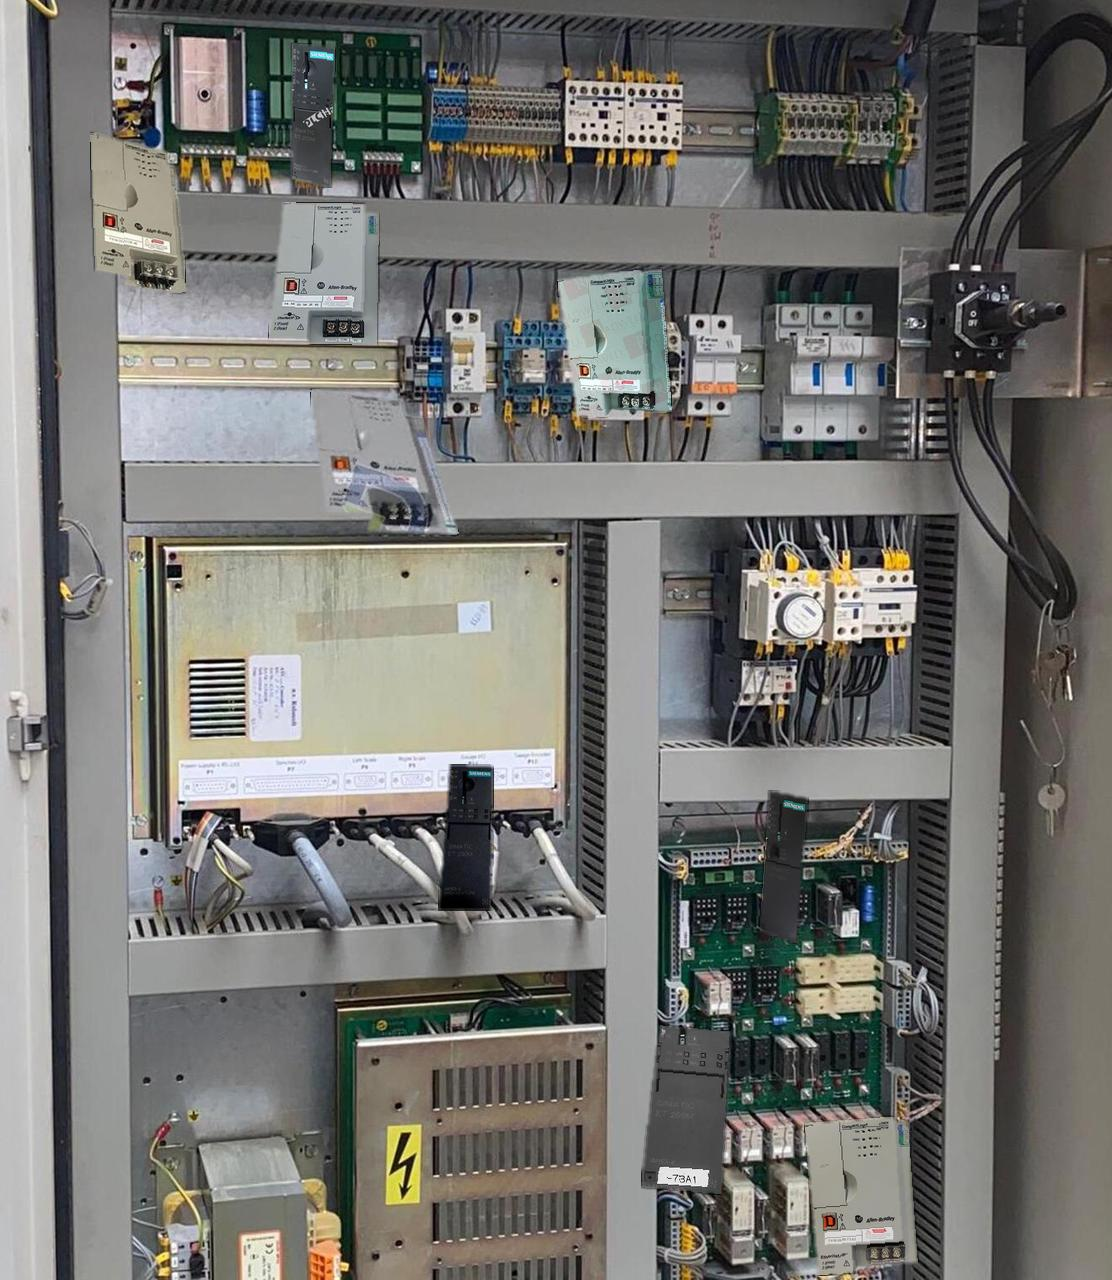AllenBradley: (310, 389, 458, 534), (805, 1117, 917, 1273), (557, 270, 671, 416), (269, 202, 378, 344), (90, 133, 185, 292)
Siemens: (759, 791, 807, 941)
